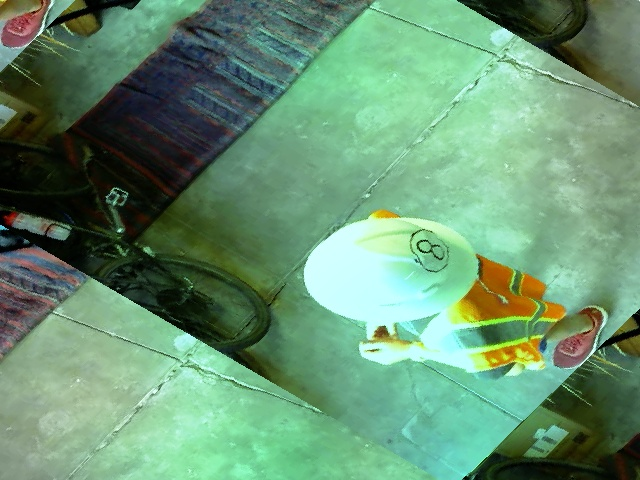eight: (393, 223, 465, 276)
